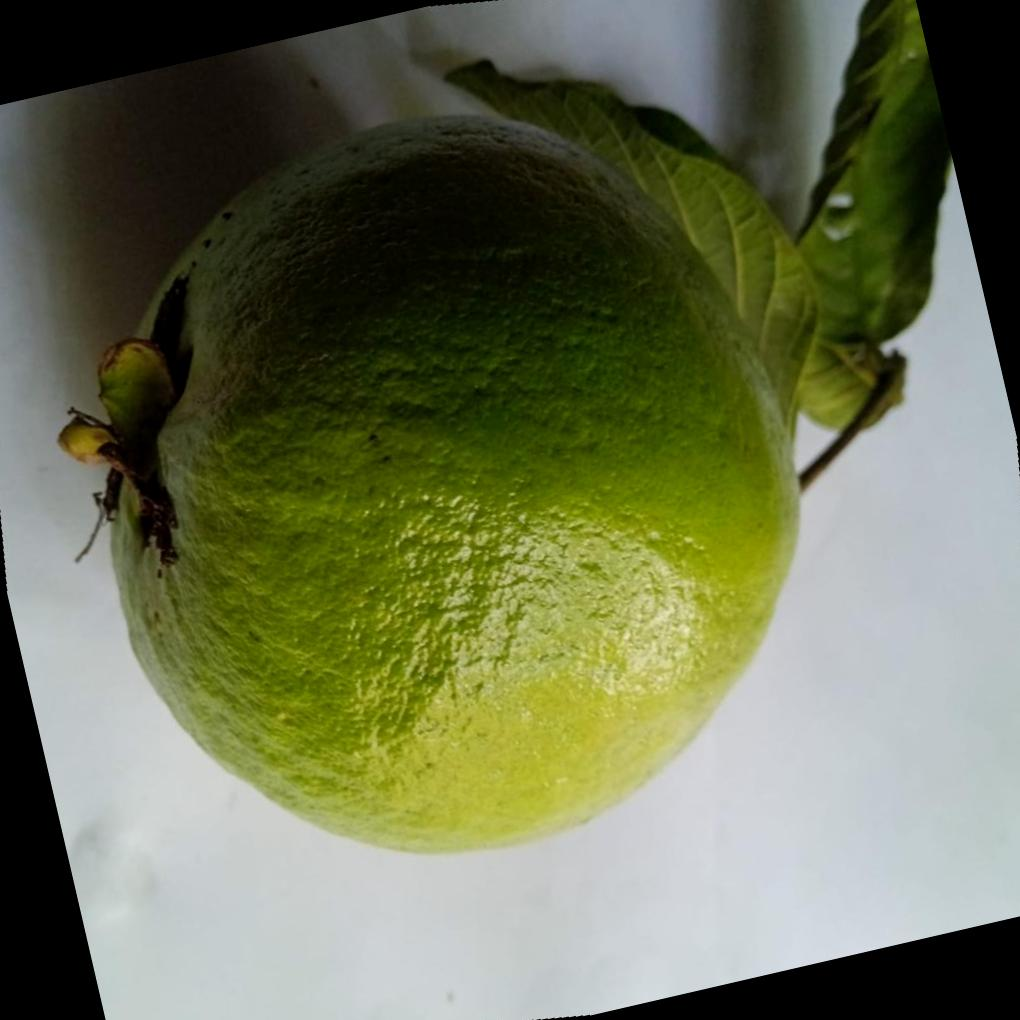FreshGuava: (55, 108, 798, 856)
